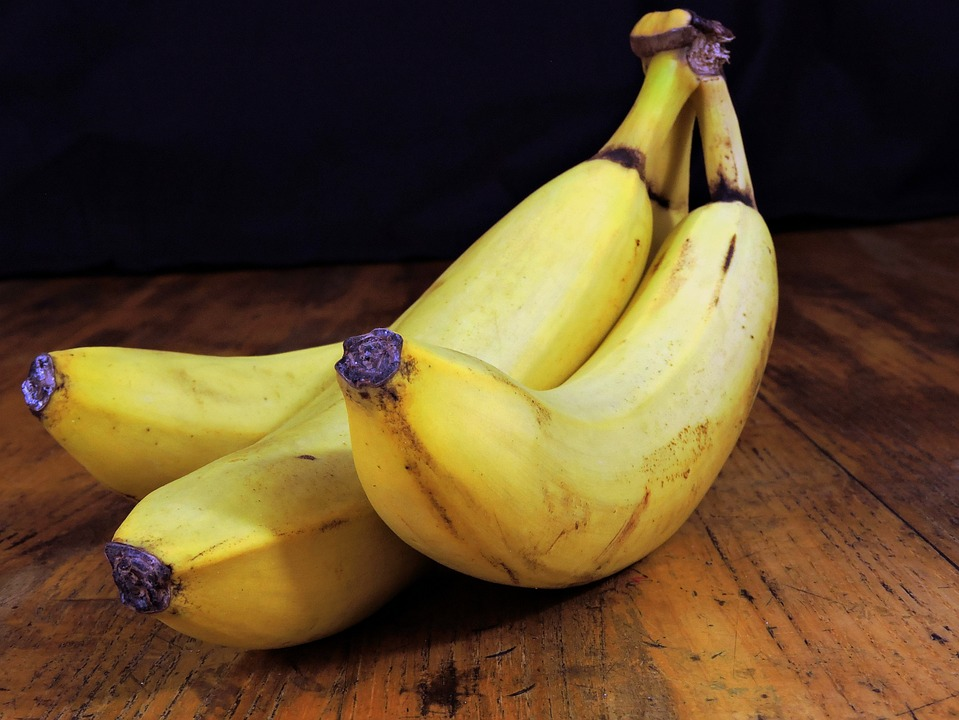Banana: (108, 129, 656, 645), (340, 78, 779, 589)
